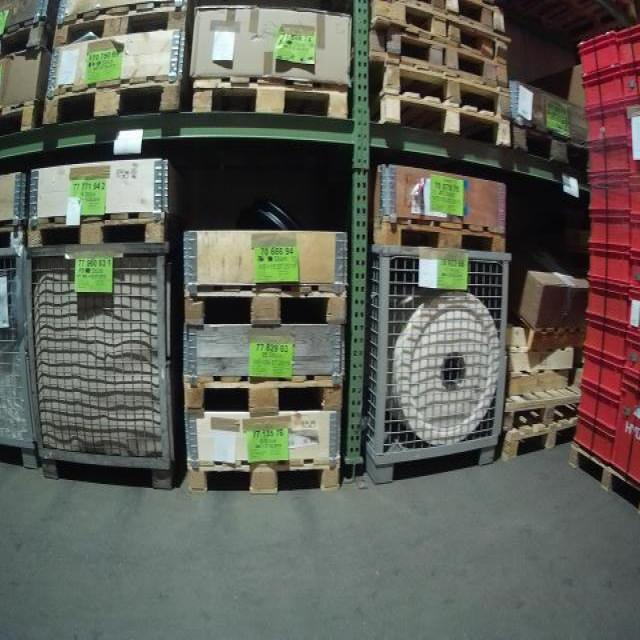pallet: (41, 72, 188, 131), (379, 25, 508, 88), (380, 60, 509, 120), (181, 368, 344, 415), (180, 281, 350, 326), (191, 74, 350, 121), (377, 96, 509, 151), (53, 0, 195, 51), (382, 5, 507, 57), (186, 456, 340, 496), (370, 213, 507, 255), (563, 441, 640, 512), (26, 212, 168, 250), (503, 381, 582, 431), (497, 416, 581, 461), (512, 121, 589, 170), (0, 18, 57, 59), (424, 3, 507, 24), (1, 99, 42, 135)
small_load_carrier: (611, 369, 640, 484), (578, 385, 621, 440), (570, 28, 620, 75), (574, 412, 617, 464), (578, 358, 625, 403), (584, 324, 626, 374), (585, 248, 633, 291), (581, 68, 626, 112), (584, 286, 628, 331), (585, 105, 628, 147), (586, 139, 628, 181), (583, 216, 633, 249), (587, 176, 628, 216), (615, 20, 638, 66), (624, 335, 639, 383), (624, 138, 638, 177), (627, 296, 639, 341), (626, 179, 638, 218), (627, 68, 638, 102), (630, 223, 640, 260), (628, 264, 638, 293)
stillage: (346, 233, 509, 483), (23, 222, 175, 490), (0, 235, 33, 494)
